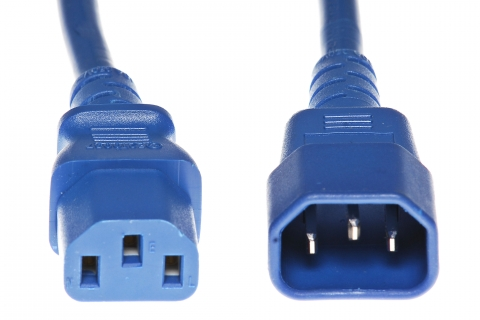IEC-Power: (268, 195, 440, 300), (65, 219, 200, 303)
